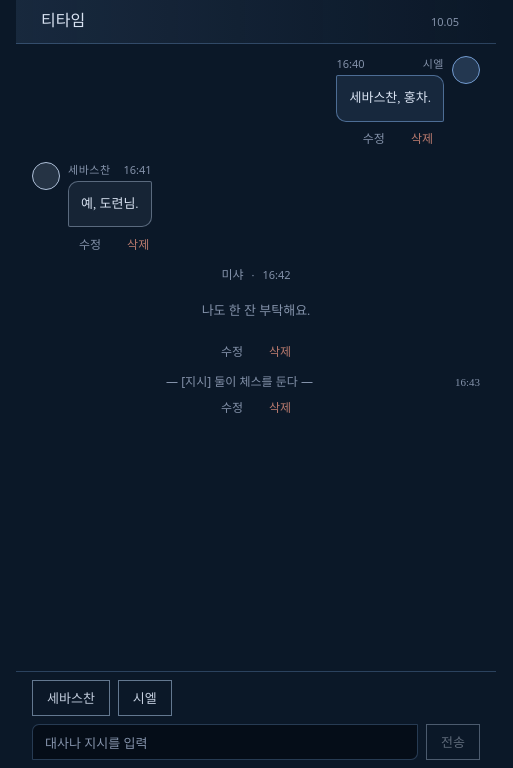
Scenario: 생성 실패·재시도 (R-CHAT-005 · R-CHAT-011) › TC-CH-074: RATE_LIMITED(retryAfterSec=40) → 실패 말풍선 문구 + 「재시도」 있음, 전환 없음
Expected: the element named "대화 기록" is shown, [32,56,480,423]
Click the button with aria-label "시엘 대사 생성": (145, 698) [118,680,172,716]
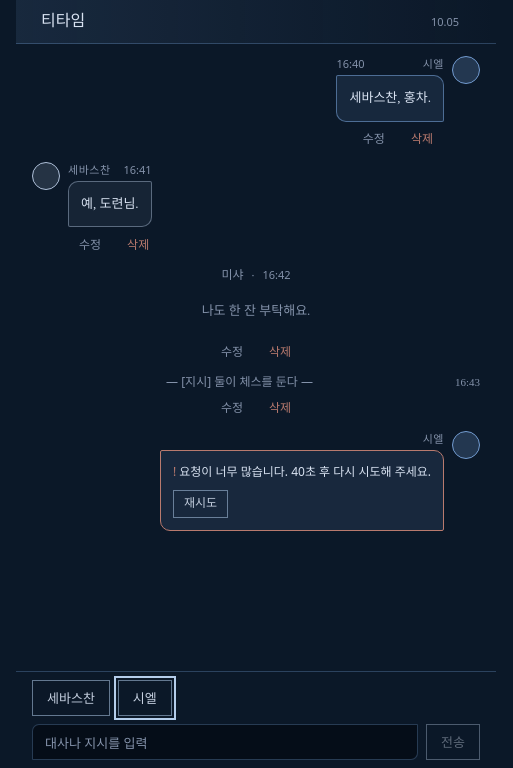
Expected: the number of messages is 1, [173,463,431,482]
Expected: the message shows "요청이 너무 많습니다. 40초 후 다시 시도해 주세요.", [179,463,431,480]
Expected: the button with aria-label "시엘 대사 재시도" is enabled, [173,490,228,518]
